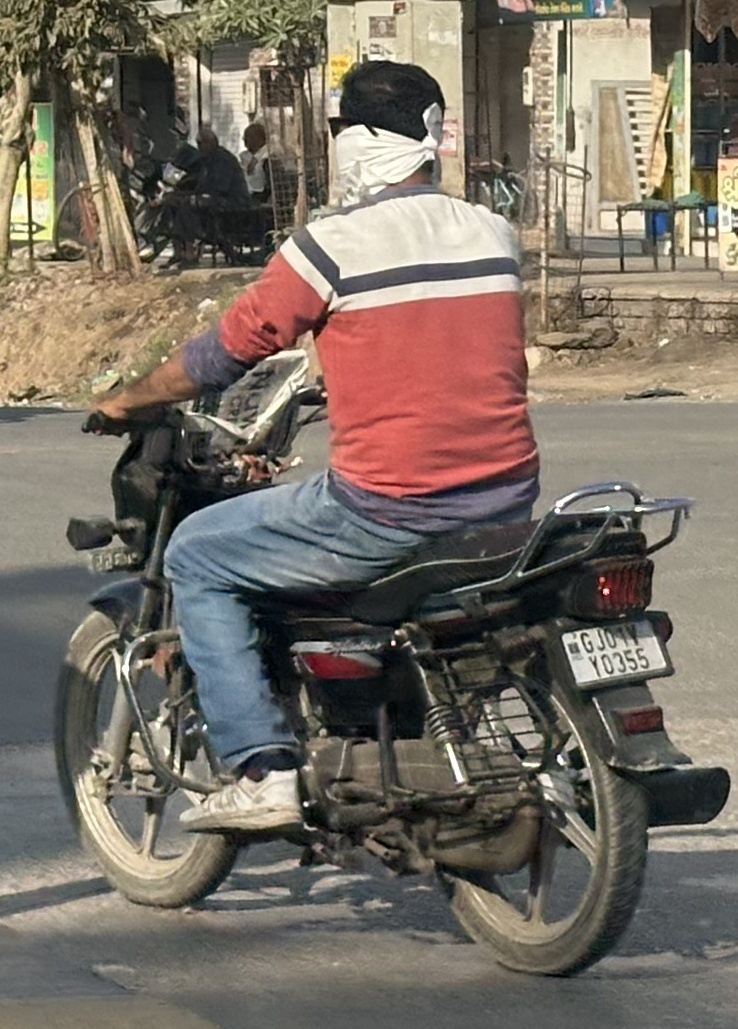BikeWithRider: (33, 48, 734, 986)
NoHelmet: (315, 49, 456, 217)
